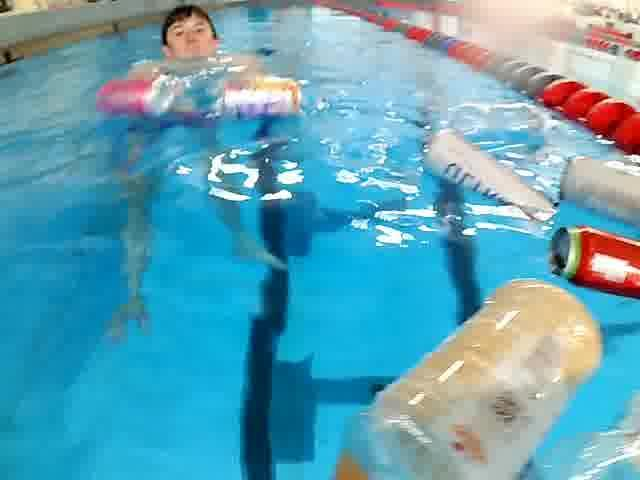Bottle: (323, 268, 607, 480)
Can: (415, 126, 562, 233), (543, 220, 640, 299), (558, 146, 640, 225), (90, 72, 188, 124), (209, 72, 310, 120)
